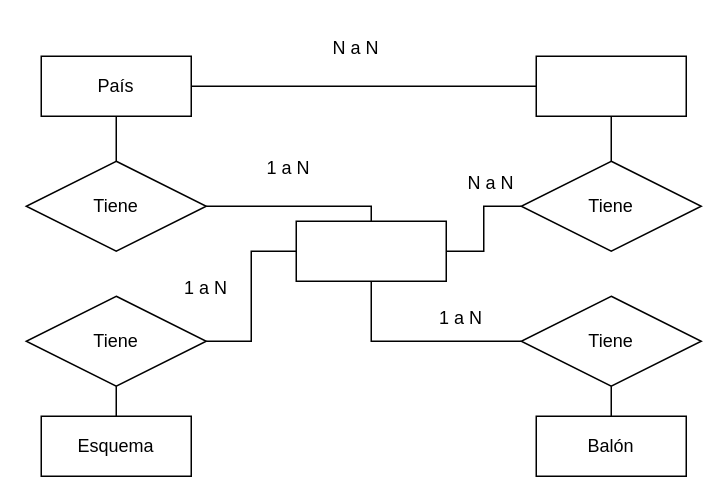
Image size: 728x503. Some labels were removed from this diagram. Each missing label, with the box of its shape:
Mundial: (295, 220, 446, 281)
Sedes: (535, 55, 686, 116)
